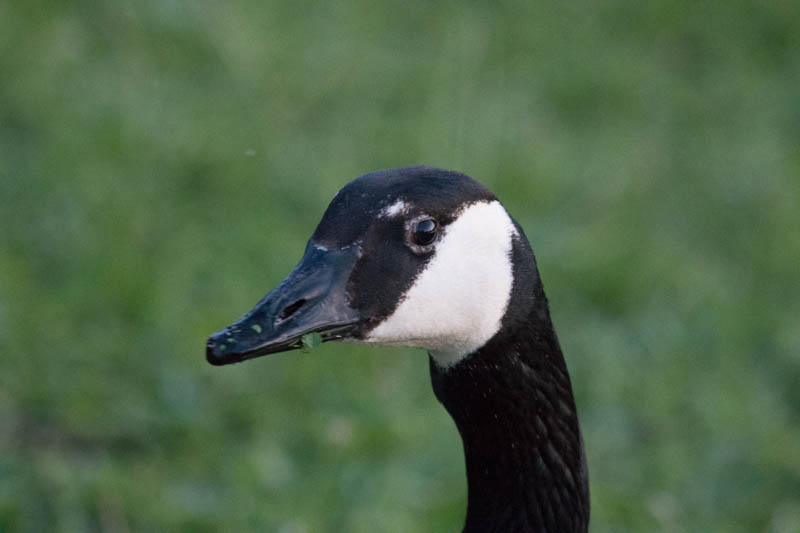goose-head: (206, 166, 539, 370)
